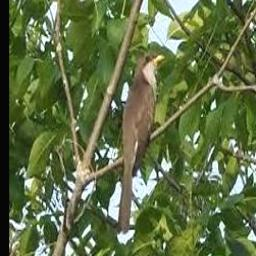Cuckoo: (117, 52, 165, 232)
